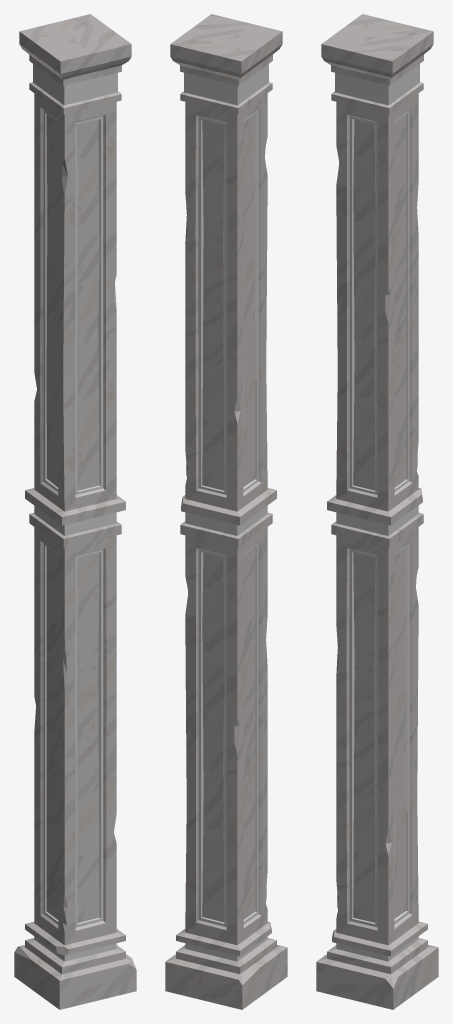
Rendered from SM_Bld_Pillar_Large_06.fbx.
3 views of the same model, side by side, from view 1: azimuth 30°, elevation 25°; view 2: azimuth 150°, elevation 25°; view 3: azimuth 330°, elevation 25° (orthographic).
Visible parts, largest first — view 1: SM_Bld_Pillar_Large_06; view 2: SM_Bld_Pillar_Large_06; view 3: SM_Bld_Pillar_Large_06.
Part boxes in pixels (x1,y1,x2,y2): SM_Bld_Pillar_Large_06: (14,14,136,1009); SM_Bld_Pillar_Large_06: (165,14,287,1009); SM_Bld_Pillar_Large_06: (316,14,438,1009).
Size of the model in its own units: 51.12 by 600 by 52.18.
